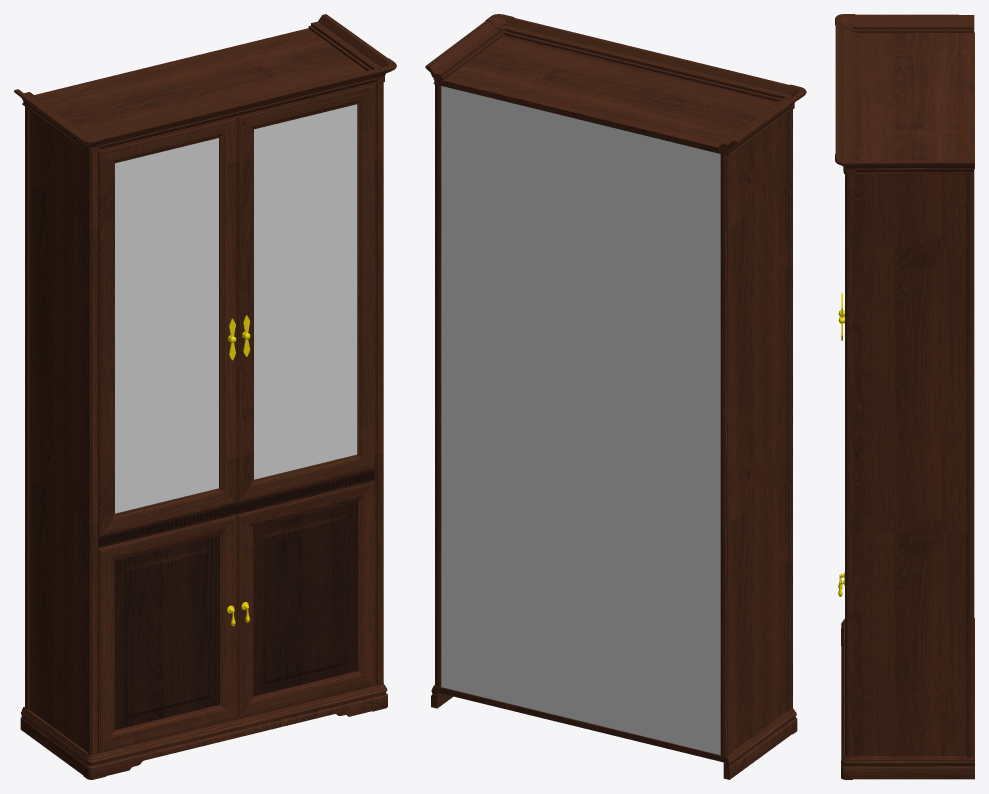
Rendered from forBook.FBX.
The picture shows the model from 3 angles, left to right: view 1: azimuth 30°, elevation 25°; view 2: azimuth 150°, elevation 25°; view 3: azimuth 270°, elevation 25°; orthographic projection. The views are drawn at different scales.
Visible parts, largest first — view 1: Loft24, Box65, Dj_Kabinet_Shkaf, Box70, Plane01, Plane17, Box04; view 2: Box05, Dj_Kabinet_Shkaf, Box70, Plane17, Plane01; view 3: Dj_Kabinet_Shkaf, Box70, Plane17, Plane01, Box04.
Part boxes in pixels (x1,y1,x2,y2): Loft24: (98,84,374,752); Box65: (115,104,357,513); Dj_Kabinet_Shkaf: (25,82,383,755); Box70: (34,28,369,752); Plane01: (20,683,387,779); Plane17: (14,14,396,153); Box04: (23,79,375,149); Box05: (441,86,720,754); Dj_Kabinet_Shkaf: (435,84,792,756); Box70: (435,35,777,762); Plane17: (425,14,806,155); Plane01: (431,685,797,779); Dj_Kabinet_Shkaf: (845,174,974,756); Box70: (855,32,974,756); Plane17: (835,14,974,174); Plane01: (841,618,974,779); Box04: (856,169,973,172).
Bounding box in the file's own units: 113 × 221 × 45.
Materials: 4 (2 with a texture image).
